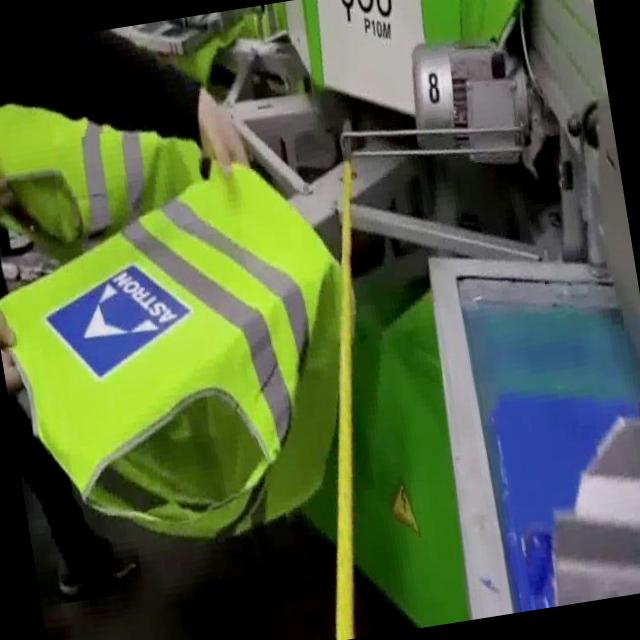vest: (0, 140, 391, 568), (0, 72, 213, 265)
